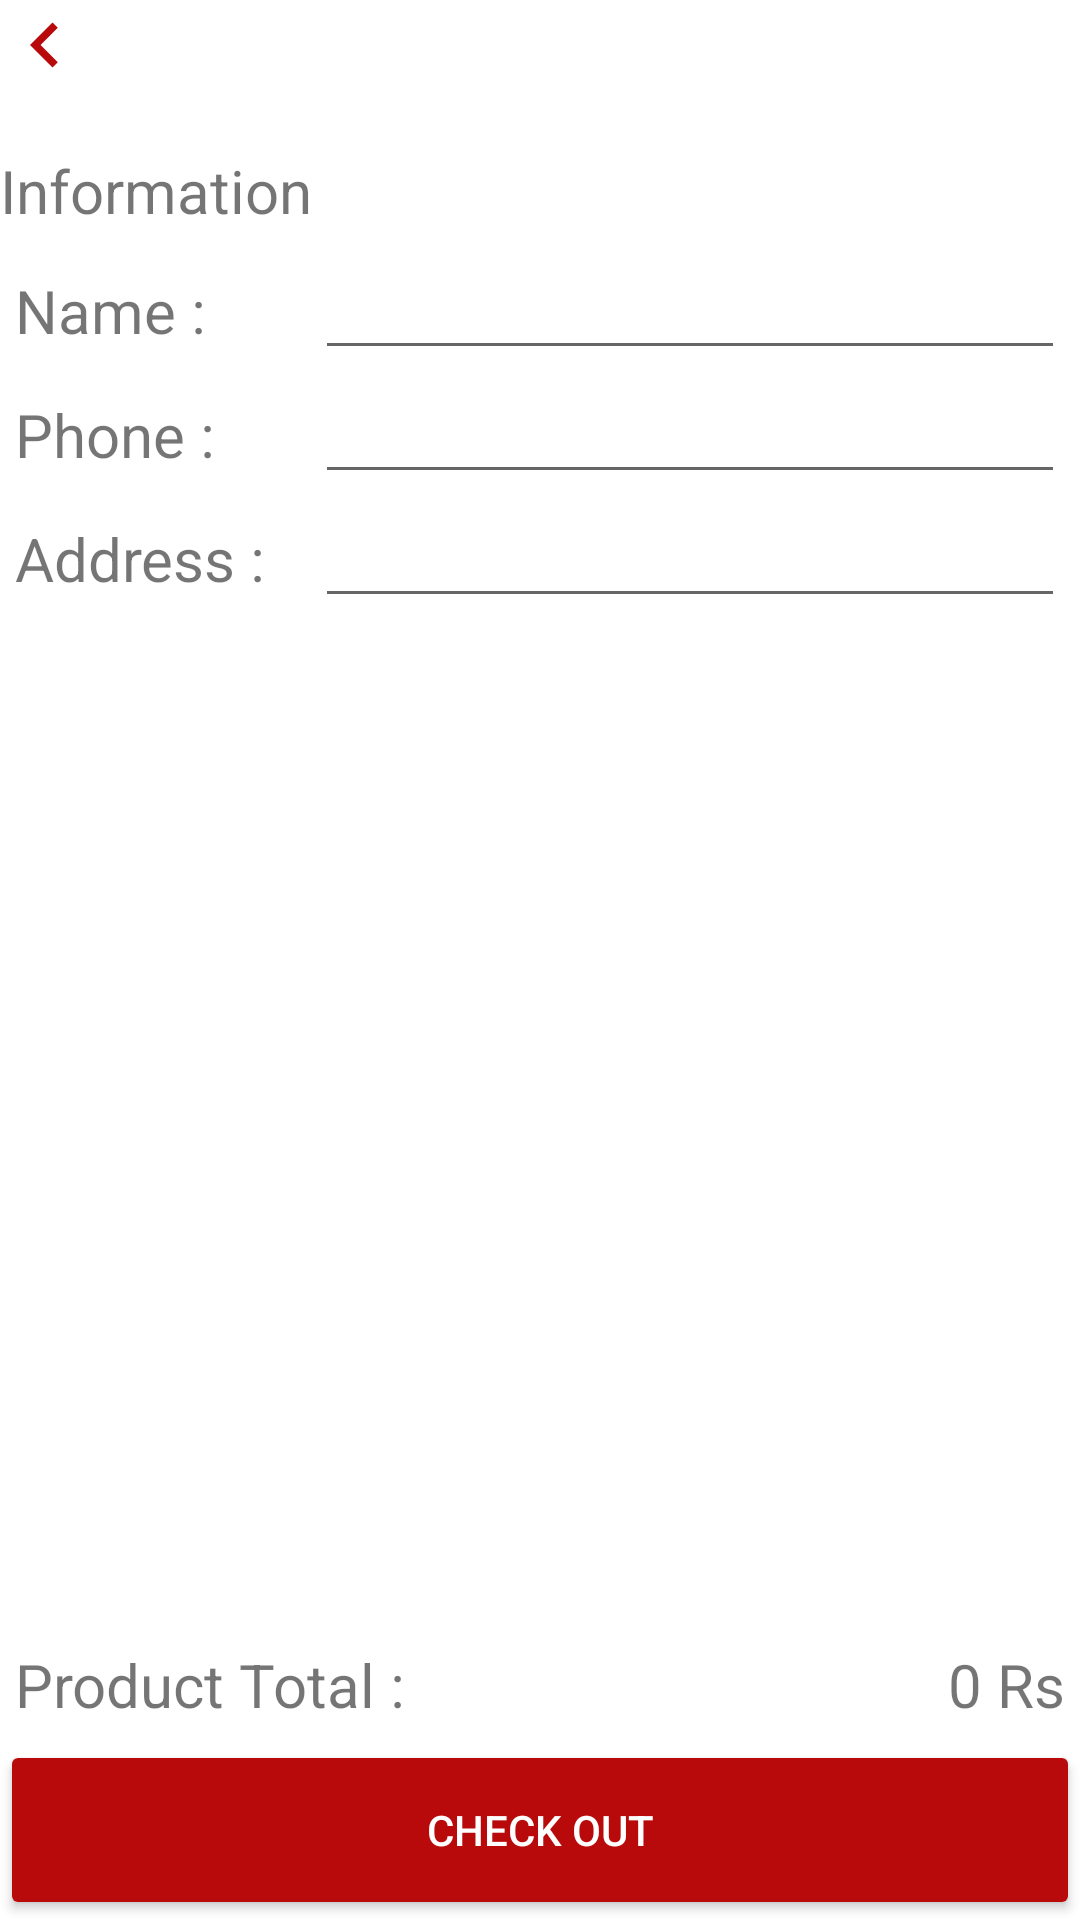

Named icons in this screenshot (1080 × 1920) and their centers, point (x, y):
navigate before: point (44, 45)
